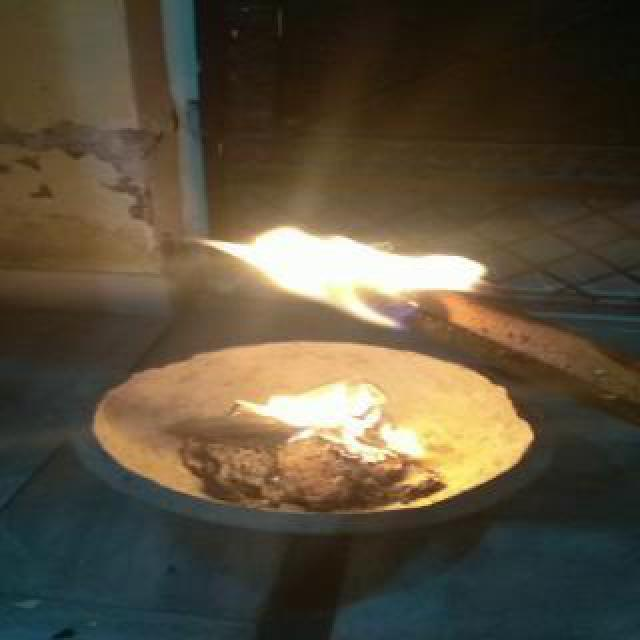Fire: (176, 206, 508, 330), (234, 372, 440, 458)
